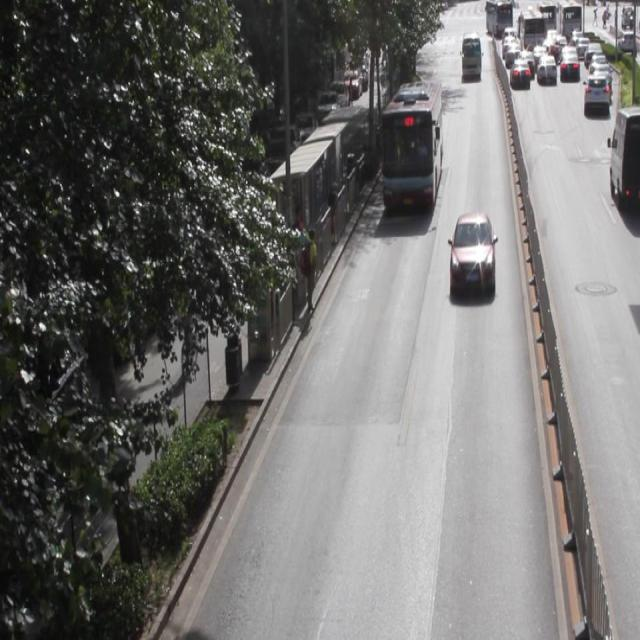car: (448, 212, 493, 290)
truck: (608, 106, 640, 209)
van: (382, 80, 440, 214)
